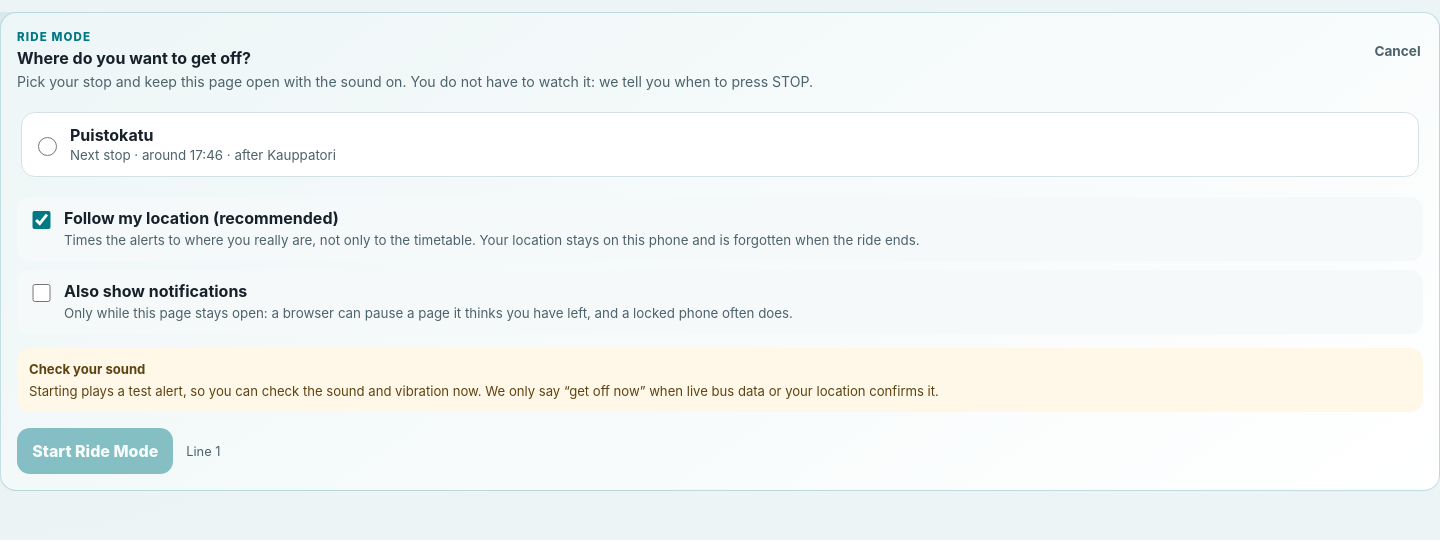
Test: explains a departure with no usable time
Expected: the button "Start Ride Mode" is shown, [17, 428, 174, 474]
Click the radio button showing "2": (47, 146) [38, 137, 57, 156]
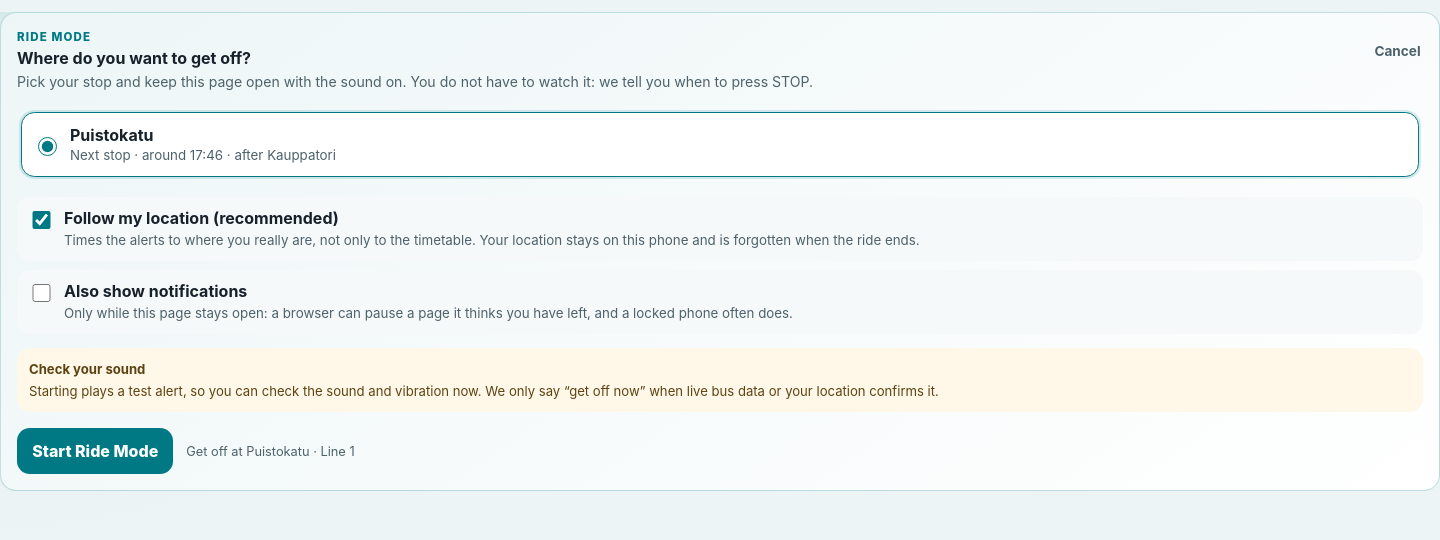
Click the button "Start Ride Mode": (95, 451) [17, 428, 174, 474]
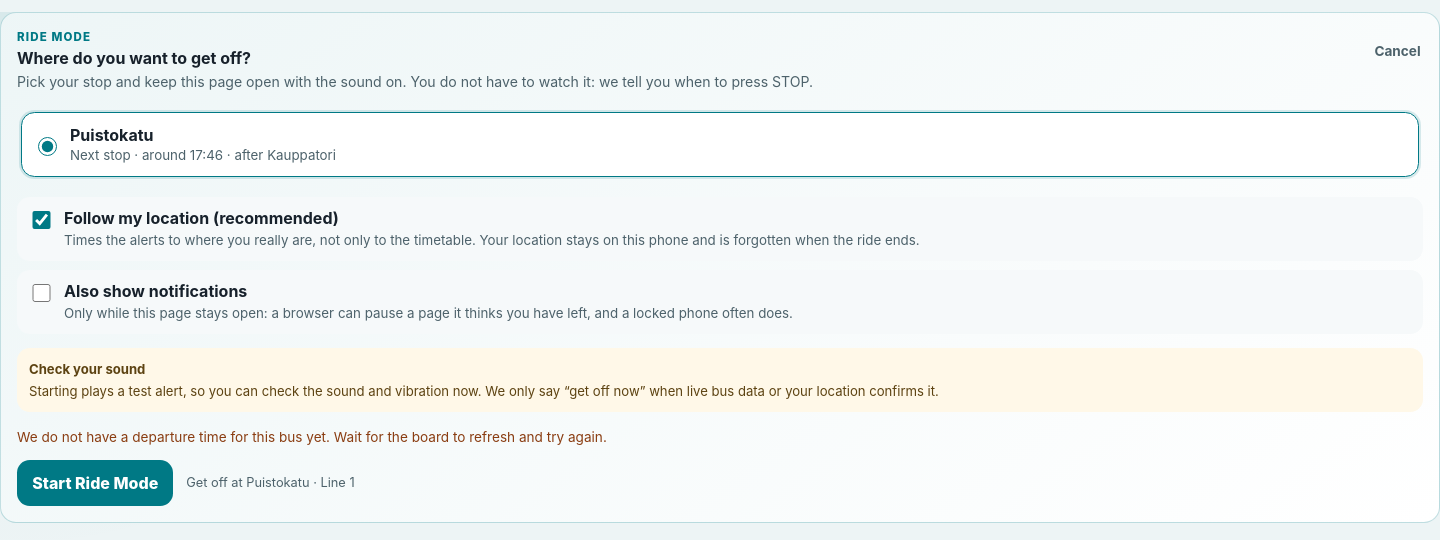
Result: the message shows "do not have a departure time" at [17, 429, 607, 445]
